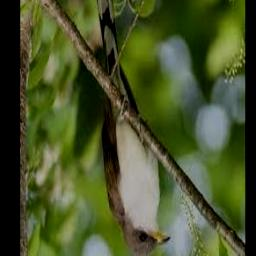Cuckoo: (94, 0, 171, 256)
